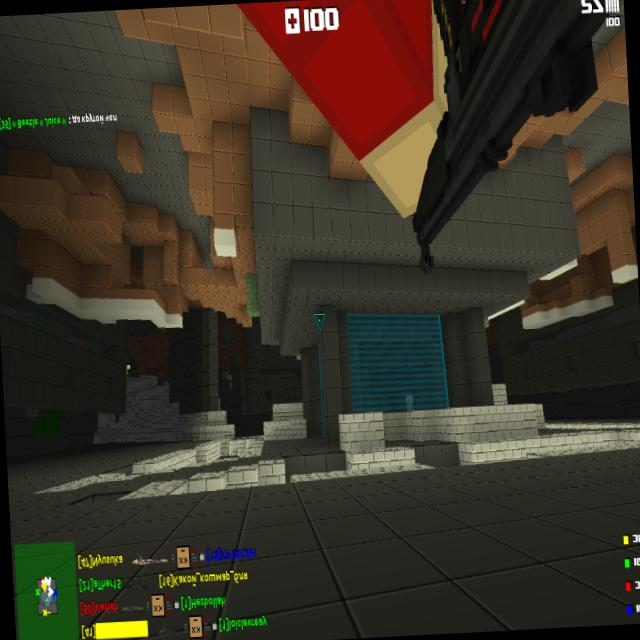enemy: (126, 364, 131, 377)
